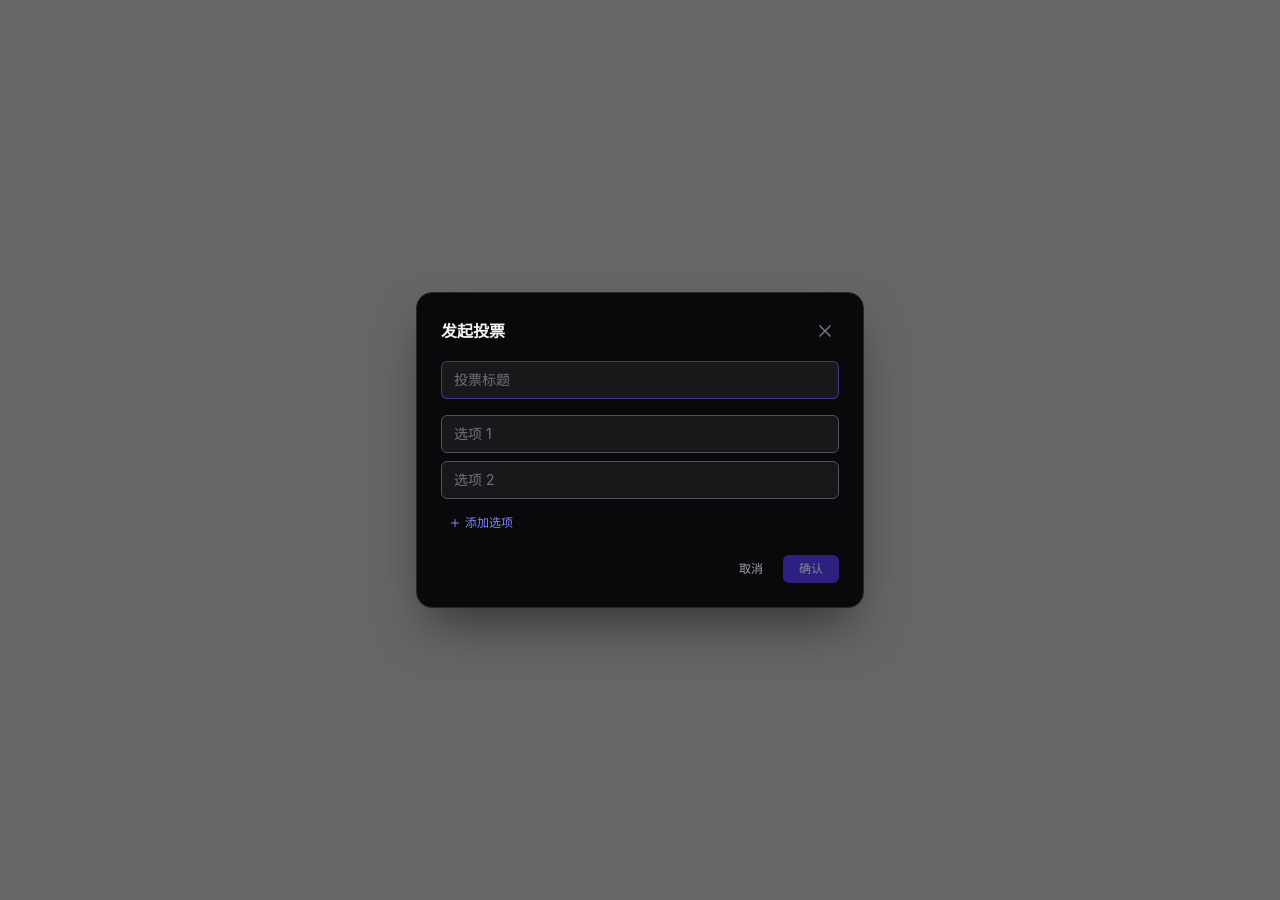
it: VoteBuilderModal › removes an option when × clicked and enforces min 2
Step 1. Click the button "添加选项" → [481, 523], box [441,511,521,535]
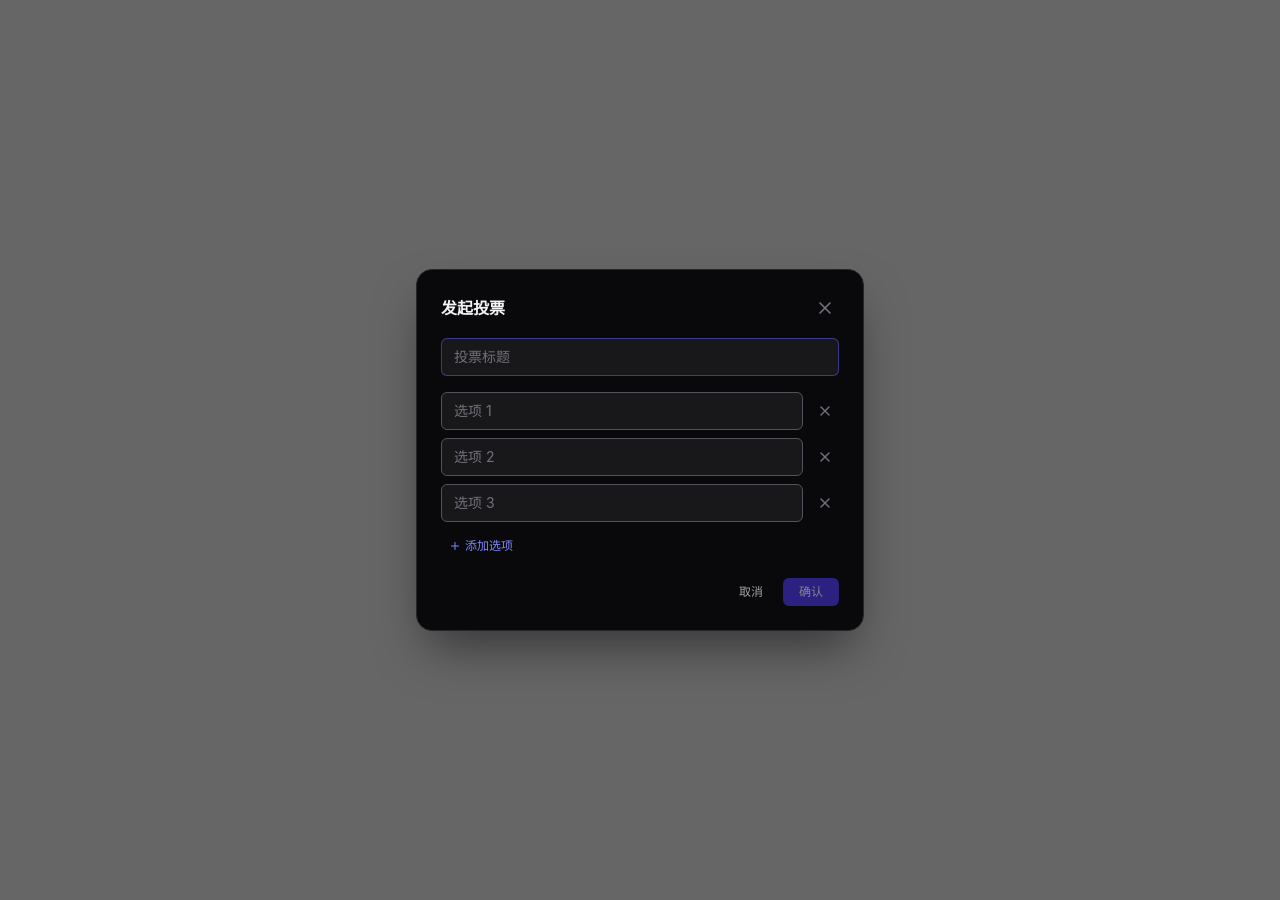
Result: the number of fields with placeholder "选项 1" is 3 at [441,392,803,430]; [441,438,803,476]; [441,484,803,522]
Result: the number of buttons named "移除选项" is 3
Step 2. Click the button named "移除选项" → [825, 411], box [811,397,839,425]
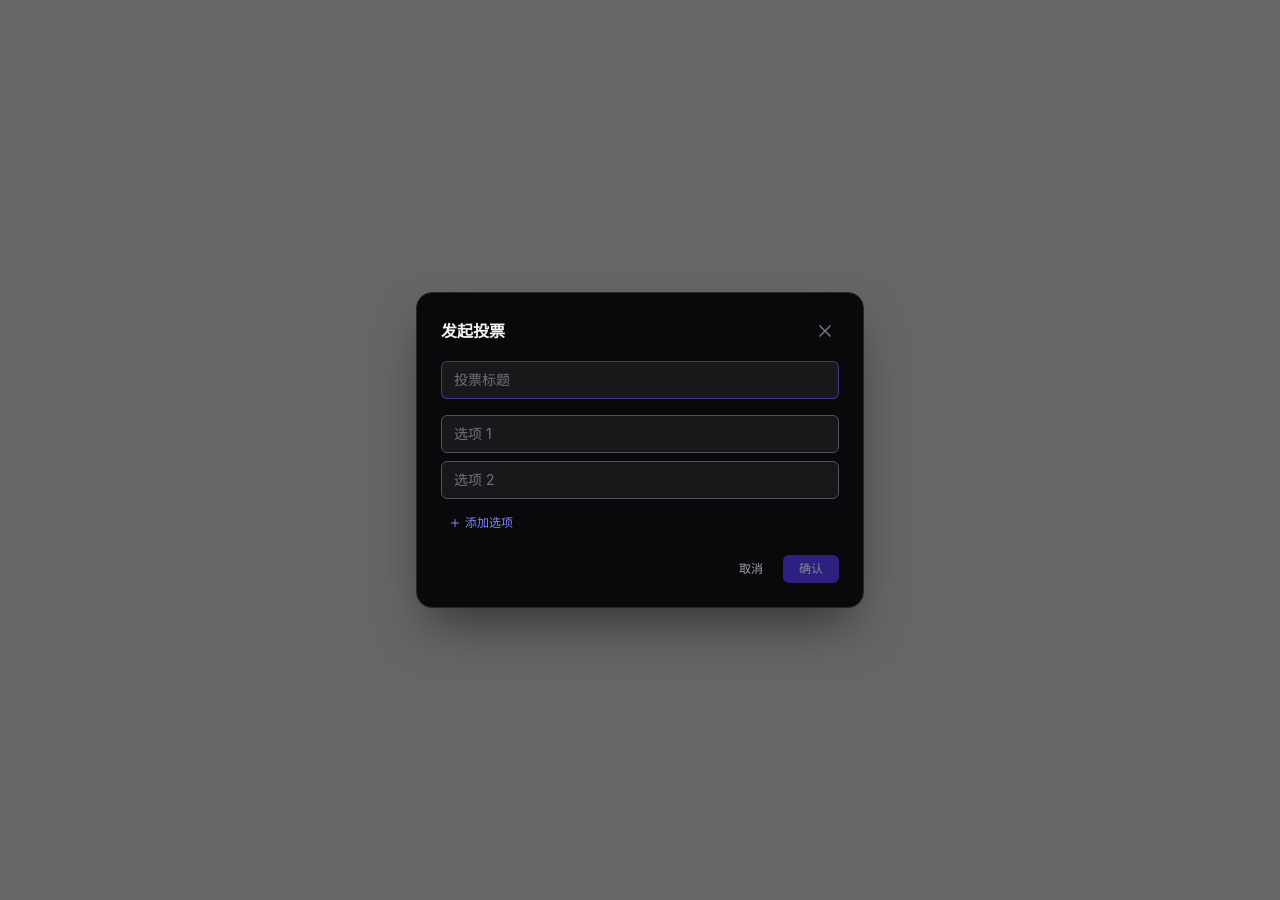
Result: the number of fields with placeholder "选项 1" is 2 at [441,415,839,453]; [441,461,839,499]
